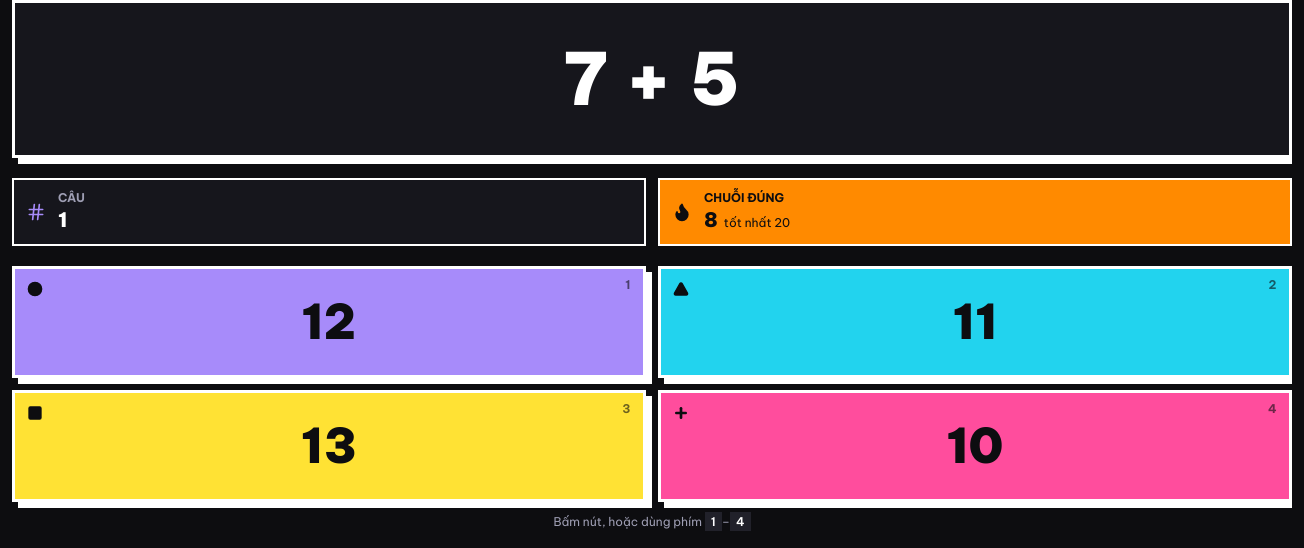
it: MathGame › chuỗi đúng lấy TỪ SERVER, không tự cộng ở client
This screenshot has width=1304, height=548.
Expected: the text "8" is shown, [704,206,718,234]
Expected: the text "tốt nhất 20" is shown, [724,215,790,231]
Click the button "1 12" at x=329, y=322, box [12,266,646,378]
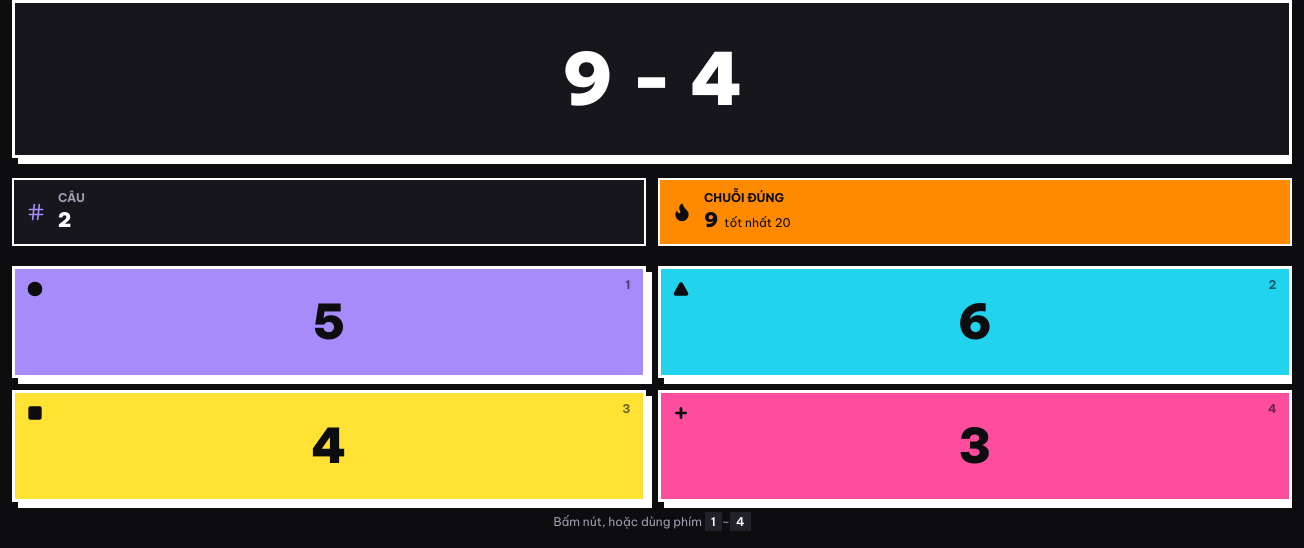
Expected: the text "9" is shown, [704,206,718,234]
